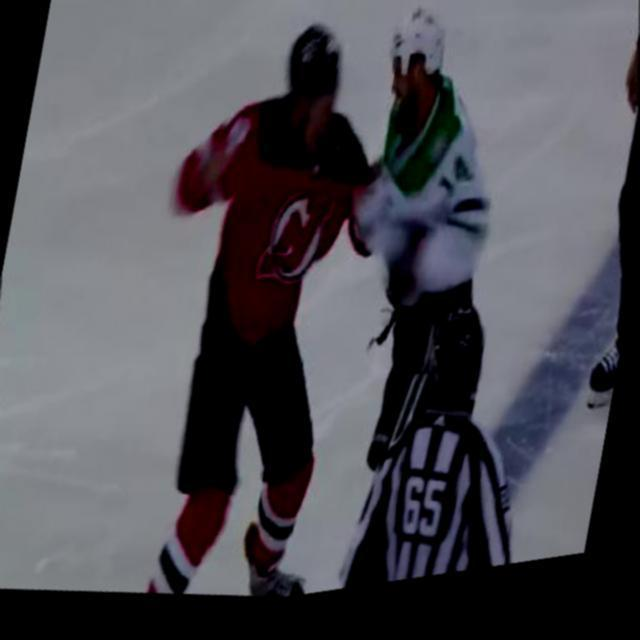fight: (110, 0, 544, 507)
